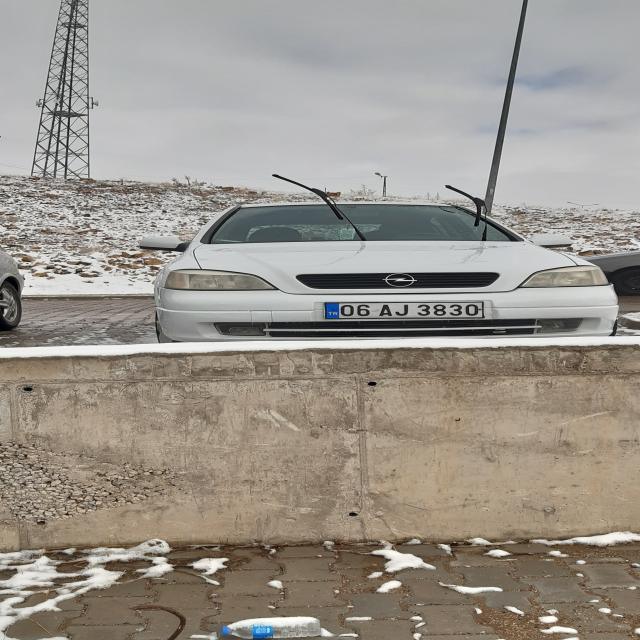plate: (324, 302, 485, 318)
